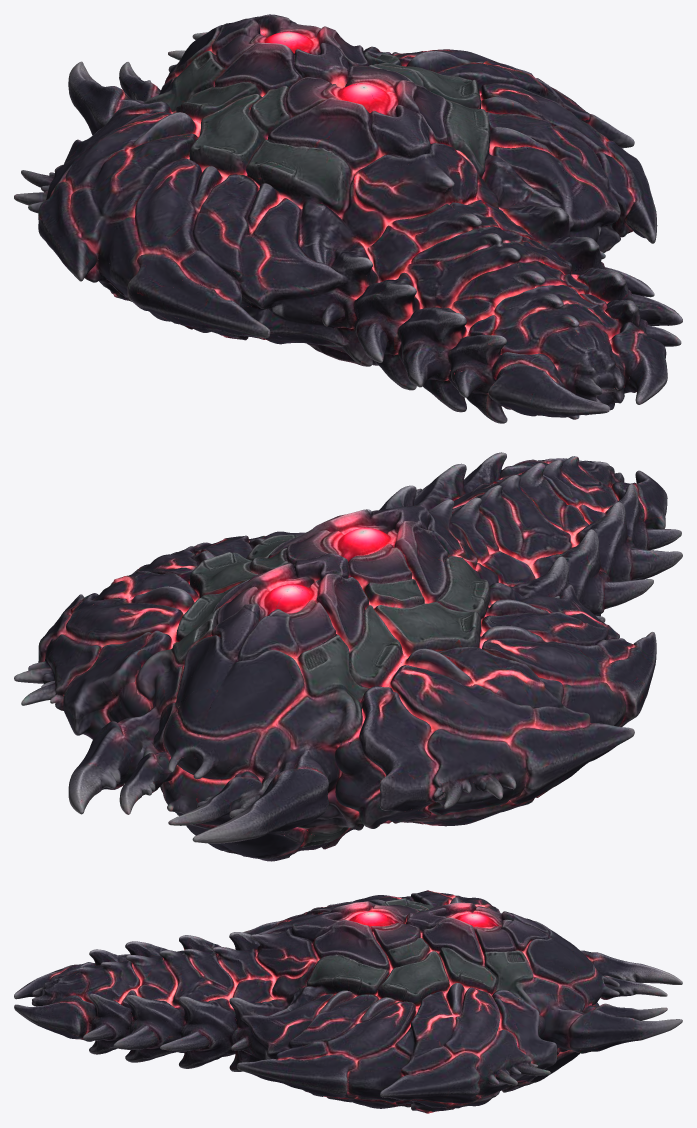
Rendered from vexor.glb.
3 views of the same model, one above another, from view 1: azimuth 30°, elevation 25°; view 2: azimuth 150°, elevation 25°; view 3: azimuth 270°, elevation 25° (orthographic). The views are drawn at different scales.
Parts seen in each view (by area): view 1: vexor; view 2: vexor; view 3: vexor.
Boxes of the visible parts, <box> form: vexor: <box>14,14,682,423</box>; vexor: <box>14,452,682,861</box>; vexor: <box>14,890,682,1113</box>.
Bounding box in the file's own units: 1.25 × 0.5726 × 1.9.
1 material, 1 textured.
